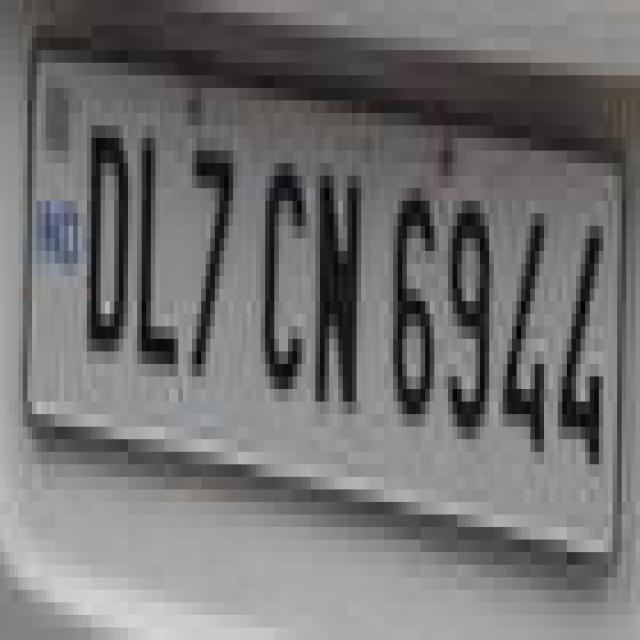license_plate: (14, 25, 603, 527)
